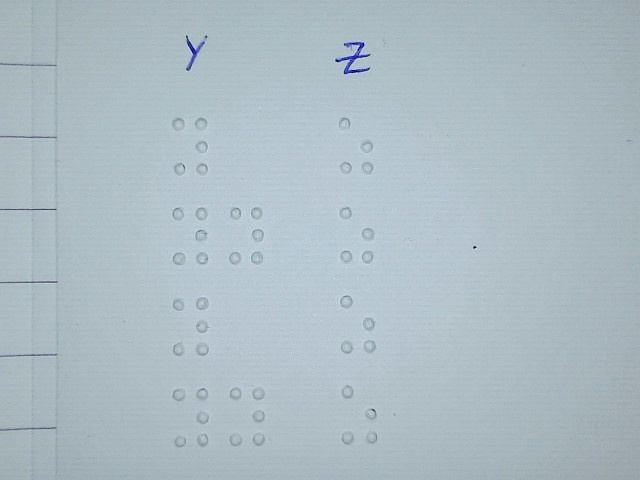Y: (171, 116, 210, 176), (227, 205, 266, 265), (172, 295, 211, 355), (227, 386, 266, 446), (172, 386, 211, 446)
Z: (336, 115, 375, 175), (337, 204, 376, 264), (338, 293, 377, 353), (340, 384, 379, 444)
